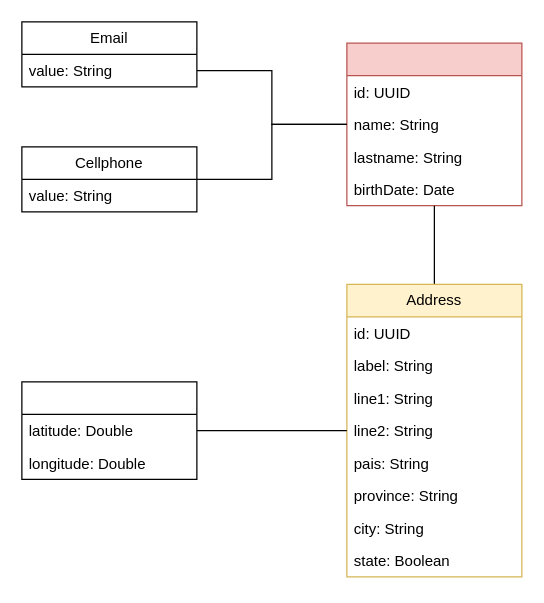
Some shapes in this 544 by 603 pixel diagram are drawn without their labels. Here are the shapes that lost their labels. From the top down, the box of each, then its label:
(346, 42, 522, 206): Patient
(21, 381, 197, 479): Coordinates
